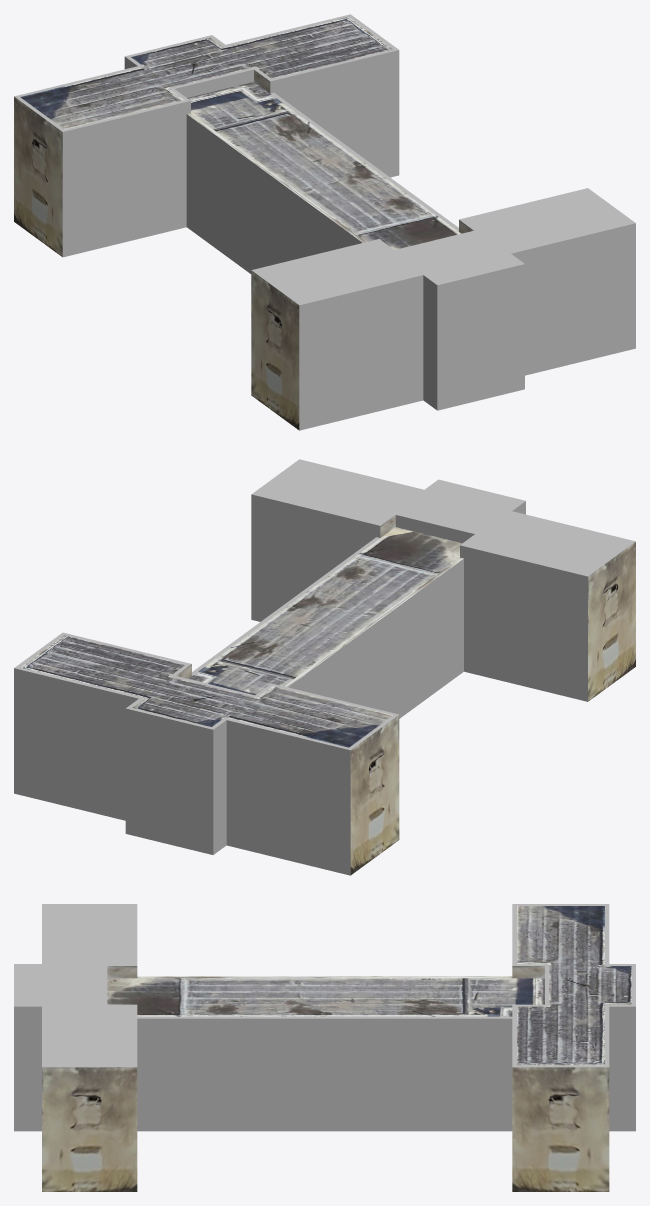
File: Techni_bldg1.gltf
3 views of the same model, one above another, from view 1: azimuth 30°, elevation 25°; view 2: azimuth 150°, elevation 25°; view 3: azimuth 270°, elevation 25° (orthographic).
Parts seen in each view (by area): view 1: node3, node4, node5, node1; view 2: node3, node4, node5, node1; view 3: node3, node1, node4, node5, node2.
Boxes of the visible parts, bbox=[...] form: node3: bbox=[14, 14, 635, 430]; node4: bbox=[187, 82, 460, 249]; node5: bbox=[20, 17, 392, 129]; node1: bbox=[14, 96, 366, 430]; node3: bbox=[14, 459, 635, 875]; node4: bbox=[188, 527, 461, 695]; node5: bbox=[20, 635, 392, 747]; node1: bbox=[284, 541, 635, 875]; node3: bbox=[14, 904, 635, 1131]; node1: bbox=[42, 976, 609, 1191]; node4: bbox=[107, 978, 544, 1016]; node5: bbox=[517, 906, 631, 1065]; node2: bbox=[107, 966, 544, 978].
Bounding box in the file's own units: 25.15 × 8.95 × 40.48.
